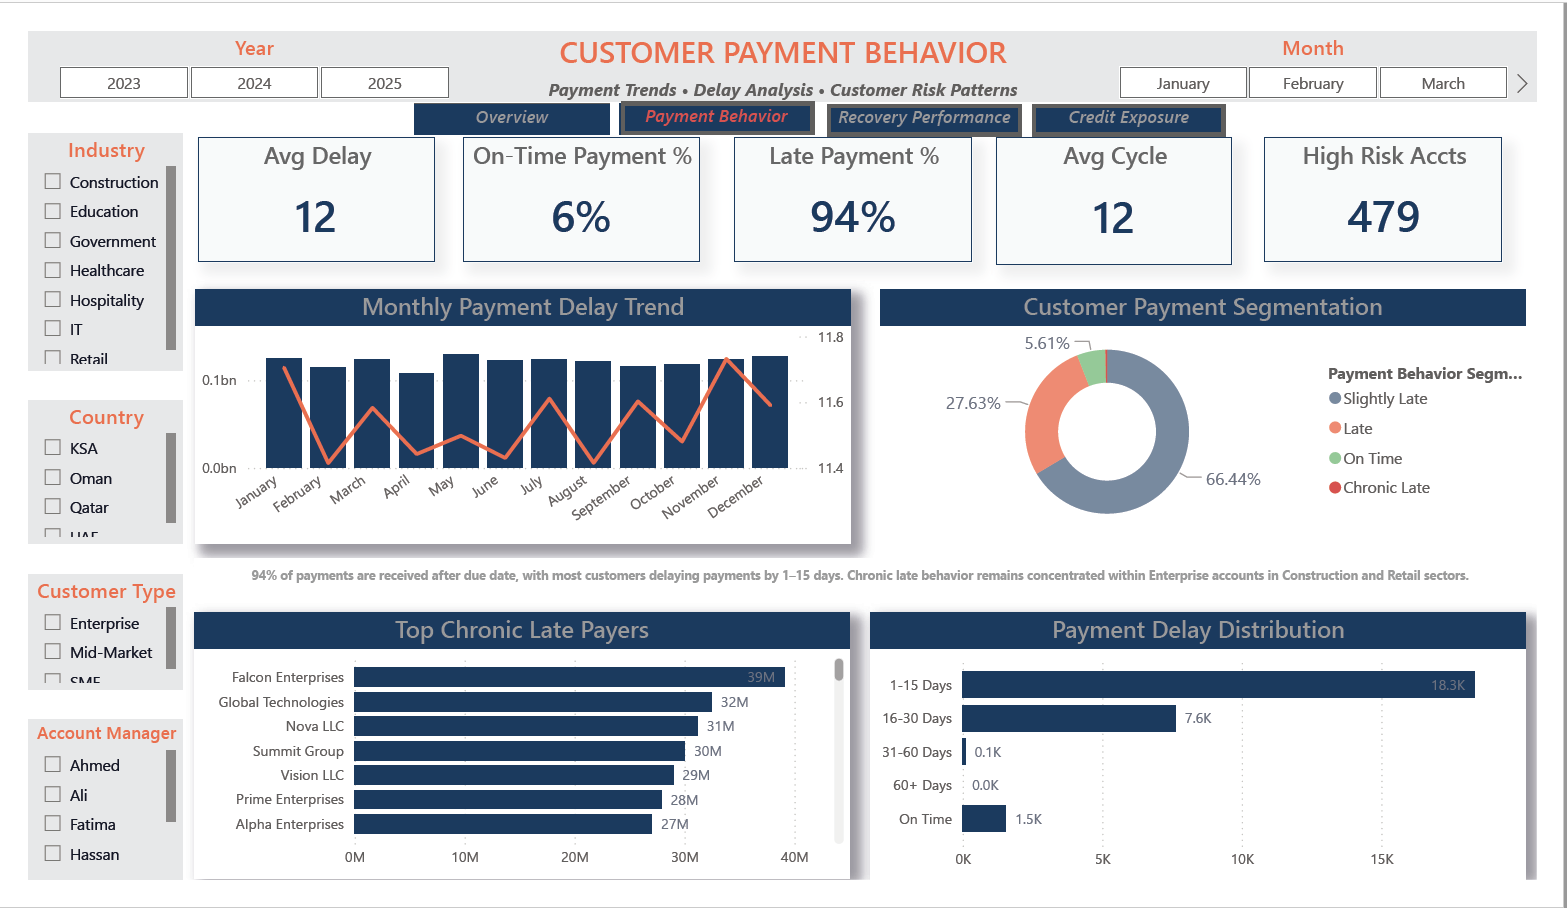

The dashboard page shown, as its layout file describes it:
{"tool":"powerbi","page":{"name":"Customer","canvas":[1280,720],"ordinal":1},"visuals":[{"type":"card","title":"Avg Delay","fields":{"Values":["Calculations (2).Avg Payment Delay"]},"box":[143.7,90.1,201.6,106.3],"z":0},{"type":"card","title":"On-Time Payment %","fields":{"Values":["Calculations (2).On Time Payment %"]},"box":[368.5,90.1,201.6,106.3],"z":1000},{"type":"card","title":"Late Payment %","fields":{"Values":["Calculations (2).Late Payment %"]},"box":[599.4,90.1,201.6,106.3],"z":2000},{"type":"card","title":"Avg Cycle","fields":{"Values":["Calculations (2).Avg Collection Cycle"]},"box":[820.5,90.1,201.6,107.5],"z":3000},{"type":"card","title":"High Risk Accts","fields":{"Values":["Calculations (2).High Risk Customers"]},"box":[1048.9,90.1,201.6,106.3],"z":4000},{"type":"slicer","title":"Year","fields":{"Values":["Calendar (2).Year"]},"box":[0,0,381.5,59.6],"z":5000},{"type":"textbox","title":"CUSTOMER PAYMENT BEHAVIOR","box":[366.3,0,548.9,59.6],"z":6000},{"type":"slicer","title":"Industry","fields":{"Values":["Customers (2).Industry"]},"box":[0,87.5,130.6,200.3],"z":7000},{"type":"slicer","title":"Month","fields":{"Values":["Calendar (2).MonthName"]},"box":[898.7,0,381.5,59.6],"z":8000},{"type":"slicer","title":"Country","fields":{"Values":["Customers (2).Country"]},"box":[0,312.7,130.7,122.2],"z":9000},{"type":"slicer","title":"Customer Type","fields":{"Values":["Customers (2).CustomerType"]},"box":[0,460.5,130.7,99],"z":10000},{"type":"slicer","title":"Account Manager","fields":{"Values":["Customers (2).AccountManager"]},"box":[0,583.9,130.7,135.6],"z":11000},{"type":"lineClusteredColumnComboChart","title":"Monthly Payment Delay Trend","fields":{"Category":["Calendar.MonthName"],"Y":["Calculations (2).Total Collections"],"Y2":["Calculations (2).Avg Payment Delay"]},"box":[142,219.3,556.5,215.5],"z":12000},{"type":"donutChart","title":"Customer Payment Segmentation","fields":{"Category":["Payments.Payment Behavior Segment"],"Y":["Calculations (2).Payment Count"]},"box":[722.5,219.3,548.9,215.5],"z":13000},{"type":"barChart","title":"Top Chronic Late Payers","fields":{"Category":["Customers.CustomerName"],"Y":["Calculations (2).Overdue Amount"]},"box":[140.7,493.1,556.5,225.6],"z":14000},{"type":"barChart","title":"Payment Delay Distribution","fields":{"Category":["DelayBucketTable.Delay Bucket"],"Y":["Calculations (2).Payment Count"]},"box":[714.7,492.7,556.5,228.1],"z":15000},{"type":"textbox","box":[140.7,447.5,1130.7,38],"z":16000},{"type":"group","id":"g1","title":"Top Navigation","box":[328.3,59.8,688.3,29],"z":17000},{"type":"actionButton","title":"Overview","box":[328.3,60.9,164.8,26.6],"z":20000,"group":"g1"},{"type":"textbox","title":"Payment Behavior","box":[502,60.9,164.8,26.6],"z":20062,"group":"g1"},{"type":"textbox","title":"Overview","box":[328.3,62.1,164.8,25.4],"z":20125,"group":"g1"},{"type":"textbox","title":"Recovery Performance","box":[678.2,62.1,164.8,26.6],"z":20250,"group":"g1"},{"type":"textbox","title":"Credit Exposure","box":[851.8,62.1,164.8,26.6],"z":20500,"group":"g1"},{"type":"actionButton","title":"Payment Behavior","box":[502.8,59.8,164.8,27.9],"z":21000,"group":"g1"},{"type":"actionButton","title":"Recovery Performance","box":[678.2,62.1,164.8,26.6],"z":22000,"group":"g1"},{"type":"actionButton","title":"Credit Exposure","box":[851.8,62.1,164.8,26.6],"z":23000,"group":"g1"}]}

Visuals, with their boxes in screenshot pixels (x1, y1, x2, y2), scaled from the page's 1280x720 canvas onto the 1567x908 screenshot:
"Avg Delay" card: (176,114,423,248)
"On-Time Payment %" card: (451,114,698,248)
"Late Payment %" card: (734,114,981,248)
"Avg Cycle" card: (1004,114,1251,249)
"High Risk Accts" card: (1284,114,1531,248)
"Year" slicer: (0,0,467,75)
"CUSTOMER PAYMENT BEHAVIOR" textbox: (448,0,1120,75)
"Industry" slicer: (0,110,160,363)
"Month" slicer: (1100,0,1566,75)
"Country" slicer: (0,394,160,548)
"Customer Type" slicer: (0,581,160,706)
"Account Manager" slicer: (0,736,160,907)
"Monthly Payment Delay Trend" lineClusteredColumnComboChart: (174,277,855,548)
"Customer Payment Segmentation" donutChart: (884,277,1556,548)
"Top Chronic Late Payers" barChart: (172,622,854,906)
"Payment Delay Distribution" barChart: (875,621,1556,907)
textbox: (172,564,1556,612)
"Top Navigation" group: (402,75,1245,112)
"Overview" actionButton: (402,77,604,110)
"Payment Behavior" textbox: (615,77,816,110)
"Overview" textbox: (402,78,604,110)
"Recovery Performance" textbox: (830,78,1032,112)
"Credit Exposure" textbox: (1043,78,1245,112)
"Payment Behavior" actionButton: (616,75,817,111)
"Recovery Performance" actionButton: (830,78,1032,112)
"Credit Exposure" actionButton: (1043,78,1245,112)
